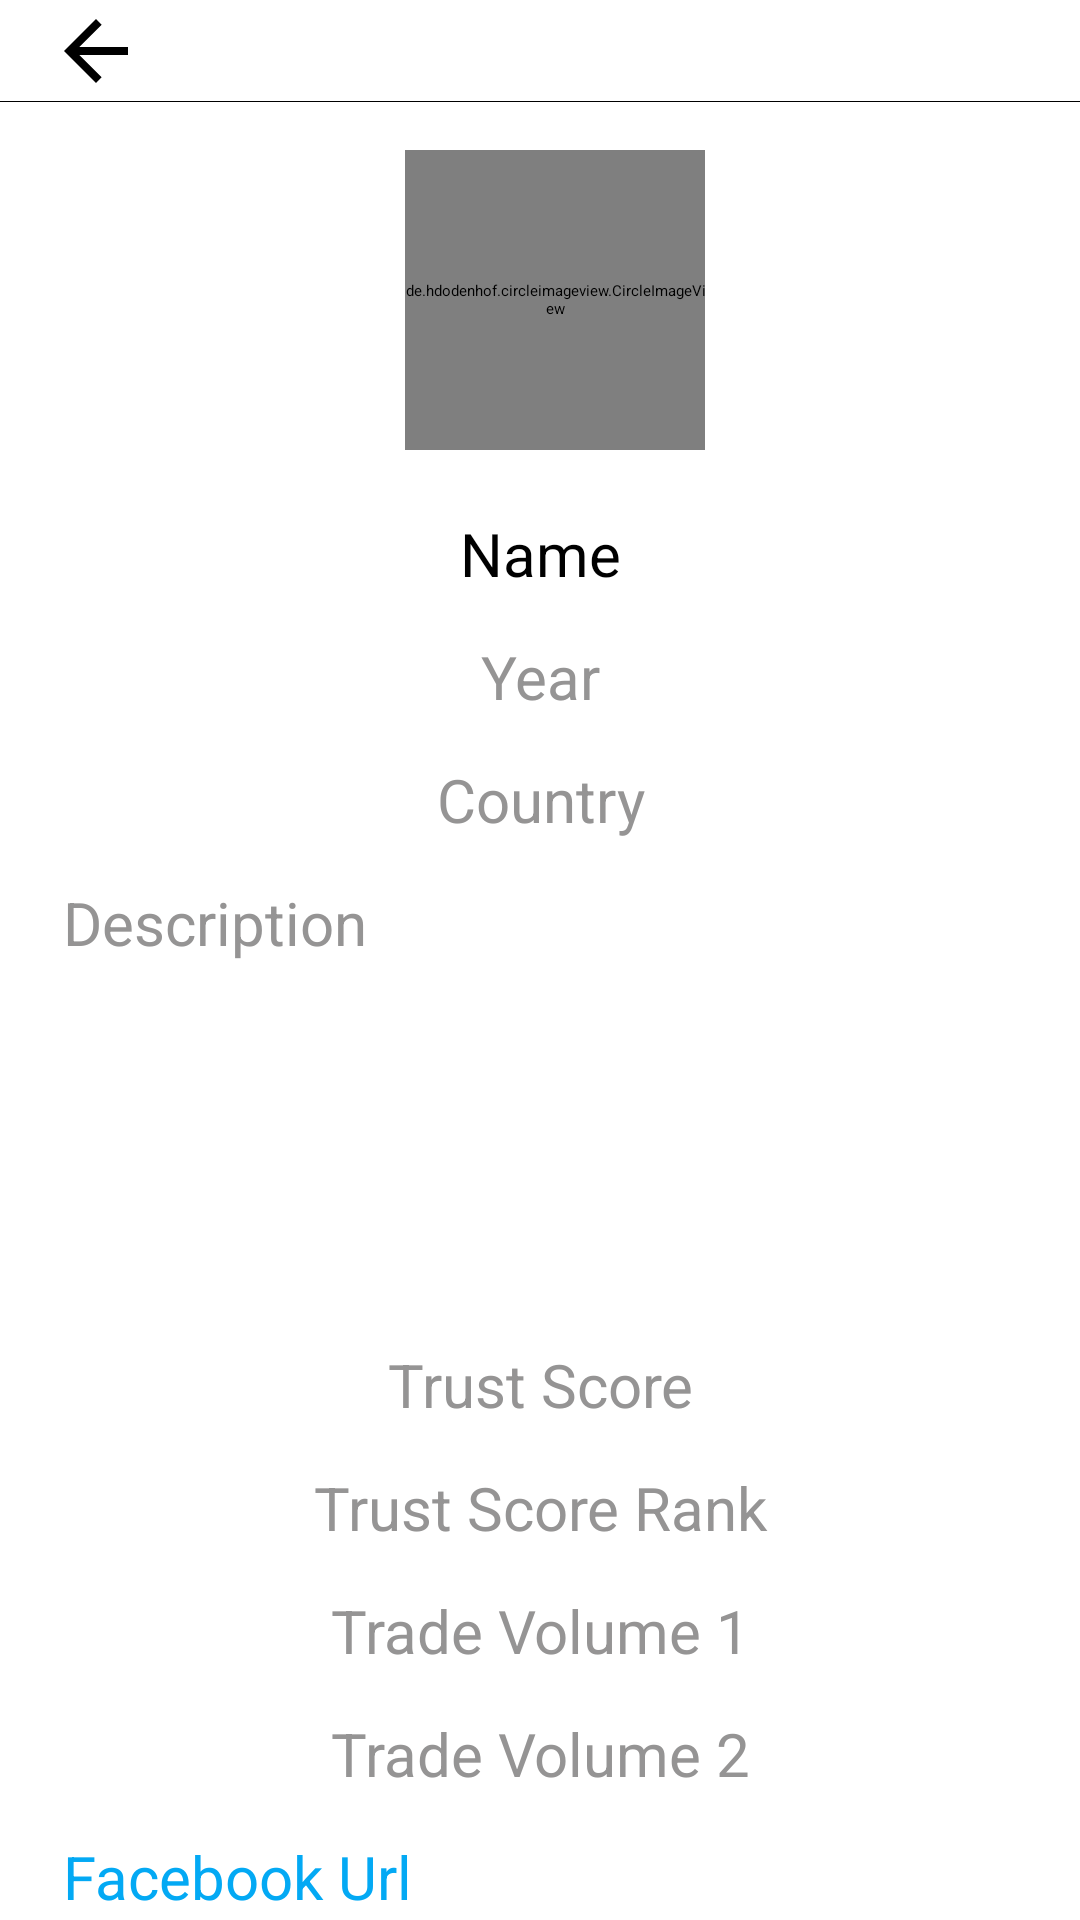

Where icons sit on this 1080x1920 app screen, as (x1, y1, x2, y2):
arrow back: (64, 19, 128, 83)
